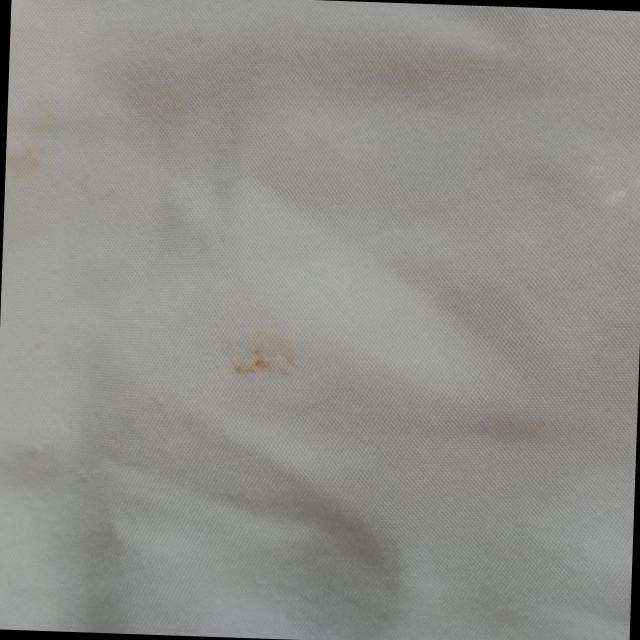stain: (209, 319, 315, 384), (5, 131, 70, 180)
